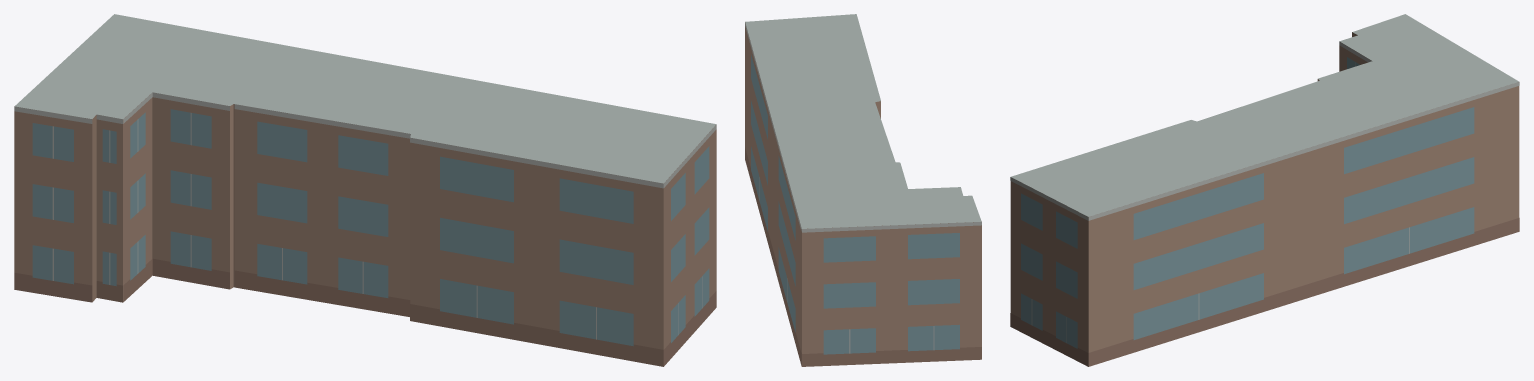
File: survey-upis-32465882.glb
3 renders of one model, left to right at view 1: azimuth 30°, elevation 25°; view 2: azimuth 150°, elevation 25°; view 3: azimuth 270°, elevation 25°, orthographic. The views are drawn at different scales.
Parts seen in each view (by area): view 1: survey-upis-32465882.tmp; view 2: survey-upis-32465882.tmp; view 3: survey-upis-32465882.tmp.
Part boxes in pixels (<box>): survey-upis-32465882.tmp: <box>14,14,716,366</box>; survey-upis-32465882.tmp: <box>745,14,981,366</box>; survey-upis-32465882.tmp: <box>1010,14,1519,366</box>.
Bounding box in the file's own units: 26.56 × 9.15 × 28.15.
